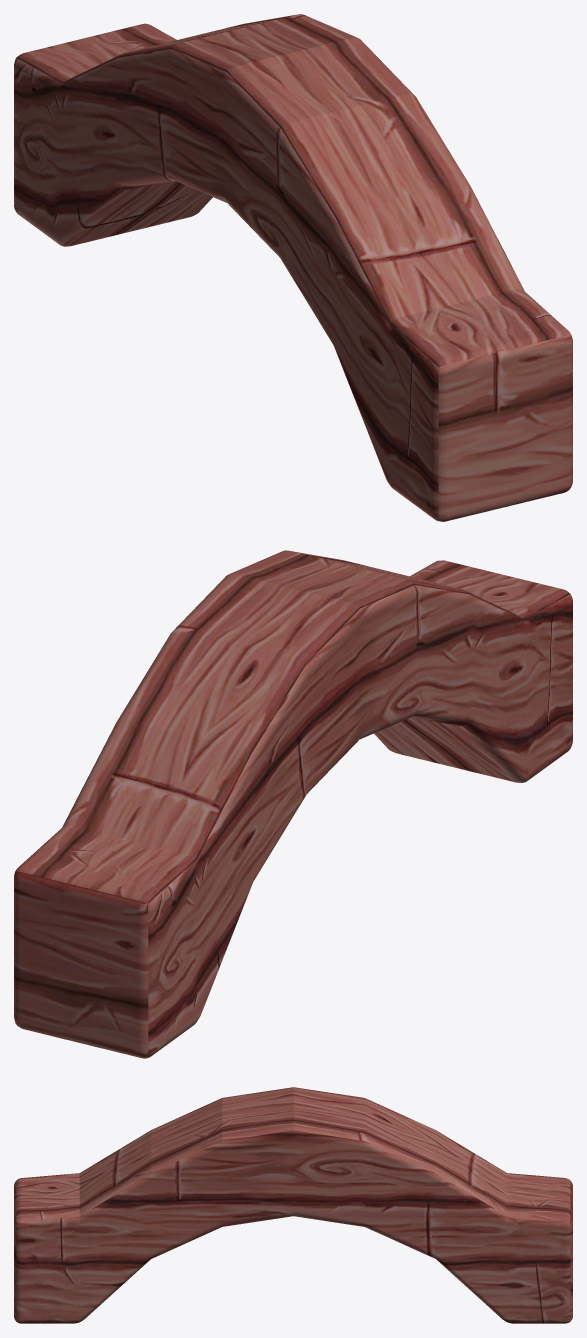
Rendered from Cornisa_lateral.fbx.
The picture shows the model from 3 angles, top to bottom: view 1: azimuth 30°, elevation 25°; view 2: azimuth 150°, elevation 25°; view 3: azimuth 270°, elevation 25°; orthographic projection. The views are drawn at different scales.
Parts seen in each view (by area): view 1: Corniza_lateral; view 2: Corniza_lateral; view 3: Corniza_lateral.
Part boxes in pixels (left/top/right/bottom): Corniza_lateral: left=14, top=14, right=572, bottom=521; Corniza_lateral: left=14, top=550, right=572, bottom=1058; Corniza_lateral: left=14, top=1087, right=572, bottom=1323.
Bounding box in the file's own units: 178 × 367 × 942.
